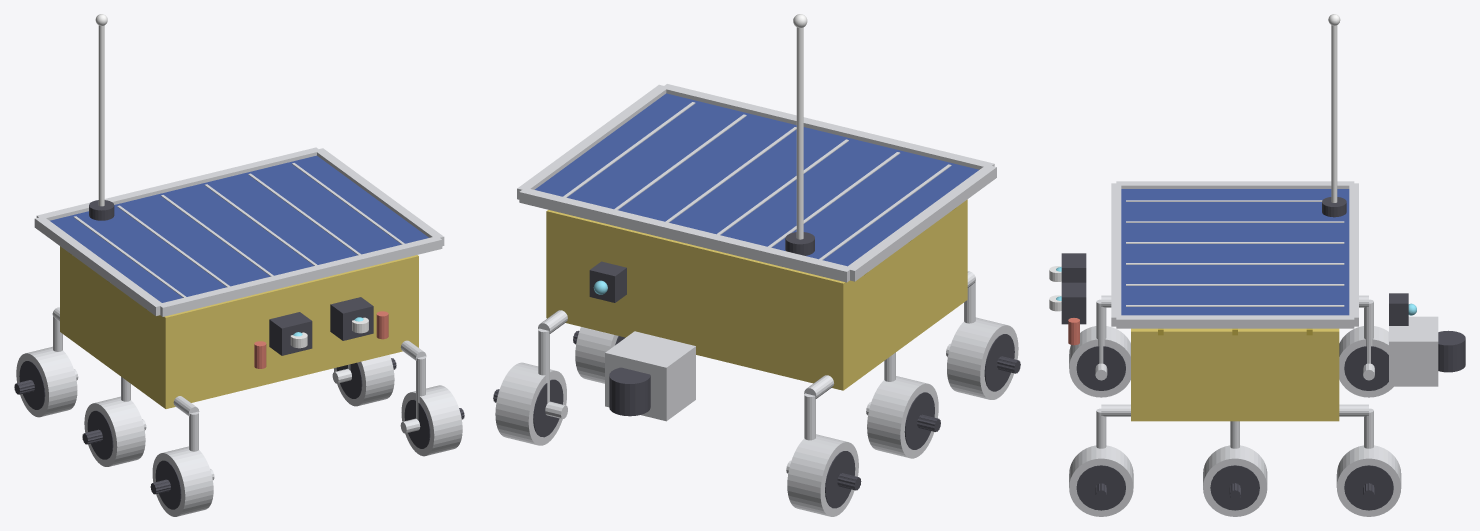
File: sojourner.glb
The picture shows the model from 3 angles, left to right: view 1: azimuth 30°, elevation 25°; view 2: azimuth 150°, elevation 25°; view 3: azimuth 270°, elevation 25°; orthographic projection. The views are drawn at different scales.
Visible parts, largest first — view 1: p5_Body_13, p0_Solar panel_0, p1_Wheels and suspension_2, p0_Solar panel_1, p1_Wheels and suspension_3, p2_Cameras_4, p3_Antenna_8, p2_Cameras_7; view 2: p5_Body_13, p0_Solar panel_0, p1_Wheels and suspension_2, p0_Solar panel_1, p1_Wheels and suspension_3, p4_Science instrument_10, p4_Science instrument_11, p3_Antenna_8; view 3: p0_Solar panel_0, p5_Body_13, p1_Wheels and suspension_2, p0_Solar panel_1, p1_Wheels and suspension_3, p4_Science instrument_10, p2_Cameras_4, p4_Science instrument_11, p3_Antenna_8.
Part boxes in pixels (x1,y1,x2,y2): p5_Body_13: [60, 246, 418, 408]; p0_Solar panel_0: [50, 155, 428, 302]; p1_Wheels and suspension_2: [16, 307, 462, 516]; p0_Solar panel_1: [34, 147, 444, 316]; p1_Wheels and suspension_3: [14, 358, 464, 509]; p2_Cameras_4: [269, 297, 373, 355]; p3_Antenna_8: [95, 14, 107, 206]; p2_Cameras_7: [254, 311, 388, 368]; p5_Body_13: [546, 199, 967, 390]; p0_Solar panel_0: [535, 93, 979, 266]; p1_Wheels and suspension_2: [495, 271, 1018, 516]; p0_Solar panel_1: [517, 84, 996, 282]; p1_Wheels and suspension_3: [493, 330, 1020, 508]; p4_Science instrument_10: [605, 331, 695, 421]; p4_Science instrument_11: [589, 261, 650, 416]; p3_Antenna_8: [793, 14, 807, 239]; p0_Solar panel_0: [1121, 189, 1349, 315]; p5_Body_13: [1131, 328, 1339, 421]; p1_Wheels and suspension_2: [1069, 295, 1401, 516]; p0_Solar panel_1: [1111, 181, 1358, 328]; p1_Wheels and suspension_3: [1076, 346, 1393, 510]; p4_Science instrument_10: [1389, 316, 1438, 386]; p2_Cameras_4: [1061, 253, 1086, 324]; p4_Science instrument_11: [1389, 293, 1465, 372]; p3_Antenna_8: [1328, 14, 1340, 202].
Size of the model in its own units: 0.706 by 0.877 by 0.84.
